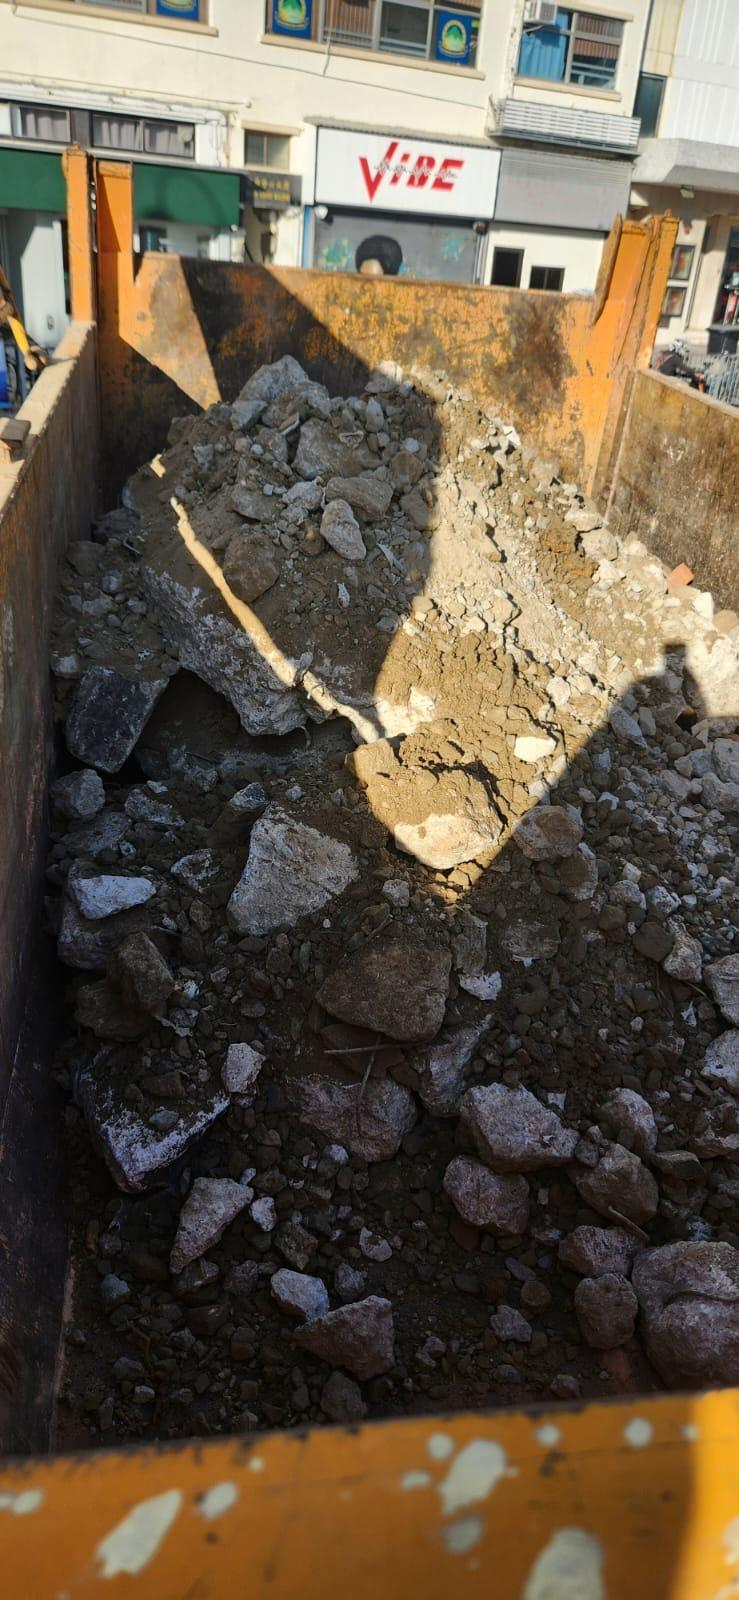dirt: (35, 351, 737, 1450)
stone: (124, 353, 442, 740), (225, 806, 360, 936), (313, 934, 453, 1043), (456, 1080, 579, 1171), (292, 1293, 395, 1379), (167, 1176, 254, 1273), (442, 1153, 530, 1235), (269, 1267, 330, 1321)
